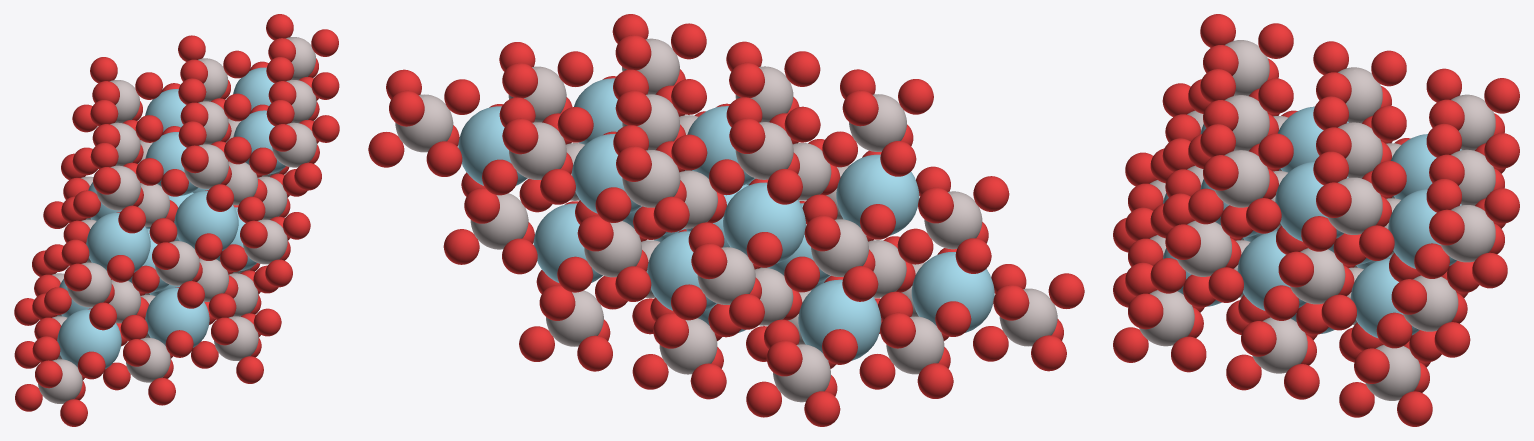
The model's file is LAO.fbx.
3 renders of one model, left to right at view 1: azimuth 30°, elevation 25°; view 2: azimuth 150°, elevation 25°; view 3: azimuth 270°, elevation 25°, orthographic. The views are drawn at different scales.
Parts seen in each view (by area): view 1: Lanthanum|Ball (NURBS)_Lanthanum|Dupli|8.0.0.0.0.0.0.0.0, Lanthanum|Ball (NURBS)_Lanthanum|Dupli|9.0.0.0.0.0.0.0.0, Lanthanum|Ball (NURBS)_Lanthanum|Dupli|12.0.0.0.0.0.0.0.0, Lanthanum|Ball (NURBS)_Lanthanum|Dupli|13.0.0.0.0.0.0.0.0, Lanthanum|Ball (NURBS)_Lanthanum|Dupli|5.0.0.0.0.0.0.0.0, Lanthanum|Ball (NURBS)_Lanthanum|Dupli|1.0.0.0.0.0.0.0.0, Aluminium|Ball (NURBS)_Aluminium|Dupli|9.0.0.0.0.0.0.0.0, Aluminium|Ball (NURBS)_Aluminium|Dupli|27.0.0.0.0.0.0.0.0, Aluminium|Ball (NURBS)_Aluminium|Dupli|17.0.0.0.0.0.0.0.0, Aluminium|Ball (NURBS)_Aluminium|Dupli|19.0.0.0.0.0.0.0.0, Aluminium|Ball (NURBS)_Aluminium|Dupli|10.0.0.0.0.0.0.0.0, Aluminium|Ball (NURBS)_Aluminium|Dupli|28.0.0.0.0.0.0.0.0 (+98 smaller); view 2: Lanthanum|Ball (NURBS)_Lanthanum|Dupli|10.0.0.0.0.0.0.0.0, Lanthanum|Ball (NURBS)_Lanthanum|Dupli|9.0.0.0.0.0.0.0.0, Lanthanum|Ball (NURBS)_Lanthanum|Dupli|11.0.0.0.0.0.0.0.0, Lanthanum|Ball (NURBS)_Lanthanum|Dupli|8.0.0.0.0.0.0.0.0, Lanthanum|Ball (NURBS)_Lanthanum|Dupli|2.0.0.0.0.0.0.0.0, Lanthanum|Ball (NURBS)_Lanthanum|Dupli|3.0.0.0.0.0.0.0.0, Lanthanum|Ball (NURBS)_Lanthanum|Dupli|6.0.0.0.0.0.0.0.0, Lanthanum|Ball (NURBS)_Lanthanum|Dupli|7.0.0.0.0.0.0.0.0, Lanthanum|Ball (NURBS)_Lanthanum|Dupli|1.0.0.0.0.0.0.0.0, Aluminium|Ball (NURBS)_Aluminium|Dupli|34.0.0.0.0.0.0.0.0, Aluminium|Ball (NURBS)_Aluminium|Dupli|8.0.0.0.0.0.0.0.0, Aluminium|Ball (NURBS)_Aluminium|Dupli|16.0.0.0.0.0.0.0.0 (+104 smaller); view 3: Lanthanum|Ball (NURBS)_Lanthanum|Dupli|5.0.0.0.0.0.0.0.0, Lanthanum|Ball (NURBS)_Lanthanum|Dupli|7.0.0.0.0.0.0.0.0, Lanthanum|Ball (NURBS)_Lanthanum|Dupli|4.0.0.0.0.0.0.0.0, Lanthanum|Ball (NURBS)_Lanthanum|Dupli|6.0.0.0.0.0.0.0.0, Aluminium|Ball (NURBS)_Aluminium|Dupli|28.0.0.0.0.0.0.0.0, Aluminium|Ball (NURBS)_Aluminium|Dupli|31.0.0.0.0.0.0.0.0, Aluminium|Ball (NURBS)_Aluminium|Dupli|34.0.0.0.0.0.0.0.0, Aluminium|Ball (NURBS)_Aluminium|Dupli|26.0.0.0.0.0.0.0.0, Aluminium|Ball (NURBS)_Aluminium|Dupli|33.0.0.0.0.0.0.0.0, Aluminium|Ball (NURBS)_Aluminium|Dupli|29.0.0.0.0.0.0.0.0, Aluminium|Ball (NURBS)_Aluminium|Dupli|30.0.0.0.0.0.0.0.0, Aluminium|Ball (NURBS)_Aluminium|Dupli|27.0.0.0.0.0.0.0.0 (+88 smaller).
Boxes of the visible parts, x1=… form: Lanthanum|Ball (NURBS)_Lanthanum|Dupli|8.0.0.0.0.0.0.0.0: x1=57, y1=309, x2=121, y2=369; Lanthanum|Ball (NURBS)_Lanthanum|Dupli|9.0.0.0.0.0.0.0.0: x1=86, y1=212, x2=150, y2=272; Lanthanum|Ball (NURBS)_Lanthanum|Dupli|12.0.0.0.0.0.0.0.0: x1=145, y1=287, x2=209, y2=347; Lanthanum|Ball (NURBS)_Lanthanum|Dupli|13.0.0.0.0.0.0.0.0: x1=174, y1=191, x2=238, y2=250; Lanthanum|Ball (NURBS)_Lanthanum|Dupli|5.0.0.0.0.0.0.0.0: x1=233, y1=110, x2=285, y2=174; Lanthanum|Ball (NURBS)_Lanthanum|Dupli|1.0.0.0.0.0.0.0.0: x1=145, y1=132, x2=198, y2=195; Aluminium|Ball (NURBS)_Aluminium|Dupli|9.0.0.0.0.0.0.0.0: x1=67, y1=262, x2=111, y2=307; Aluminium|Ball (NURBS)_Aluminium|Dupli|27.0.0.0.0.0.0.0.0: x1=243, y1=219, x2=287, y2=264; Aluminium|Ball (NURBS)_Aluminium|Dupli|17.0.0.0.0.0.0.0.0: x1=126, y1=337, x2=170, y2=382; Aluminium|Ball (NURBS)_Aluminium|Dupli|19.0.0.0.0.0.0.0.0: x1=184, y1=144, x2=228, y2=188; Aluminium|Ball (NURBS)_Aluminium|Dupli|10.0.0.0.0.0.0.0.0: x1=96, y1=165, x2=140, y2=210; Aluminium|Ball (NURBS)_Aluminium|Dupli|28.0.0.0.0.0.0.0.0: x1=272, y1=122, x2=316, y2=167; Lanthanum|Ball (NURBS)_Lanthanum|Dupli|10.0.0.0.0.0.0.0.0: x1=798, y1=279, x2=881, y2=360; Lanthanum|Ball (NURBS)_Lanthanum|Dupli|9.0.0.0.0.0.0.0.0: x1=836, y1=154, x2=919, y2=235; Lanthanum|Ball (NURBS)_Lanthanum|Dupli|11.0.0.0.0.0.0.0.0: x1=723, y1=182, x2=805, y2=263; Lanthanum|Ball (NURBS)_Lanthanum|Dupli|8.0.0.0.0.0.0.0.0: x1=911, y1=252, x2=994, y2=332; Lanthanum|Ball (NURBS)_Lanthanum|Dupli|2.0.0.0.0.0.0.0.0: x1=647, y1=231, x2=716, y2=310; Lanthanum|Ball (NURBS)_Lanthanum|Dupli|3.0.0.0.0.0.0.0.0: x1=572, y1=134, x2=640, y2=213; Lanthanum|Ball (NURBS)_Lanthanum|Dupli|6.0.0.0.0.0.0.0.0: x1=533, y1=203, x2=602, y2=282; Lanthanum|Ball (NURBS)_Lanthanum|Dupli|7.0.0.0.0.0.0.0.0: x1=458, y1=106, x2=527, y2=185; Lanthanum|Ball (NURBS)_Lanthanum|Dupli|1.0.0.0.0.0.0.0.0: x1=687, y1=106, x2=754, y2=185; Aluminium|Ball (NURBS)_Aluminium|Dupli|34.0.0.0.0.0.0.0.0: x1=395, y1=94, x2=453, y2=152; Aluminium|Ball (NURBS)_Aluminium|Dupli|8.0.0.0.0.0.0.0.0: x1=999, y1=288, x2=1057, y2=346; Aluminium|Ball (NURBS)_Aluminium|Dupli|16.0.0.0.0.0.0.0.0: x1=622, y1=150, x2=680, y2=207; Lanthanum|Ball (NURBS)_Lanthanum|Dupli|5.0.0.0.0.0.0.0.0: x1=1275, y1=161, x2=1348, y2=241; Lanthanum|Ball (NURBS)_Lanthanum|Dupli|7.0.0.0.0.0.0.0.0: x1=1388, y1=189, x2=1461, y2=268; Lanthanum|Ball (NURBS)_Lanthanum|Dupli|4.0.0.0.0.0.0.0.0: x1=1237, y1=231, x2=1306, y2=310; Lanthanum|Ball (NURBS)_Lanthanum|Dupli|6.0.0.0.0.0.0.0.0: x1=1350, y1=258, x2=1419, y2=338; Aluminium|Ball (NURBS)_Aluminium|Dupli|28.0.0.0.0.0.0.0.0: x1=1214, y1=150, x2=1269, y2=207; Aluminium|Ball (NURBS)_Aluminium|Dupli|31.0.0.0.0.0.0.0.0: x1=1327, y1=177, x2=1382, y2=234; Aluminium|Ball (NURBS)_Aluminium|Dupli|34.0.0.0.0.0.0.0.0: x1=1440, y1=205, x2=1495, y2=262; Aluminium|Ball (NURBS)_Aluminium|Dupli|26.0.0.0.0.0.0.0.0: x1=1139, y1=290, x2=1194, y2=346; Aluminium|Ball (NURBS)_Aluminium|Dupli|33.0.0.0.0.0.0.0.0: x1=1403, y1=275, x2=1458, y2=331; Aluminium|Ball (NURBS)_Aluminium|Dupli|29.0.0.0.0.0.0.0.0: x1=1252, y1=317, x2=1307, y2=373; Aluminium|Ball (NURBS)_Aluminium|Dupli|30.0.0.0.0.0.0.0.0: x1=1290, y1=248, x2=1345, y2=304; Aluminium|Ball (NURBS)_Aluminium|Dupli|27.0.0.0.0.0.0.0.0: x1=1177, y1=221, x2=1231, y2=276.
Bounding box in the file's own units: 2562 × 1270 × 1668.
